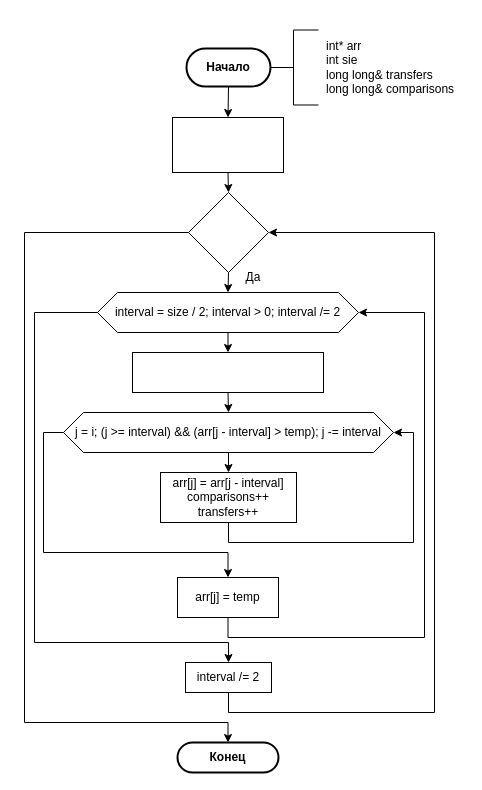
This 482x790 diagram has some shape labels left out. The centre of each missing label's shape, as x and y in pixels:
interval > 0: the point at 228,232
temp = arr[i] comparisons = comparisons + 1: the point at 228,372
transfers = 0 comparisons = 0 interval = size / 2: the point at 228,144
